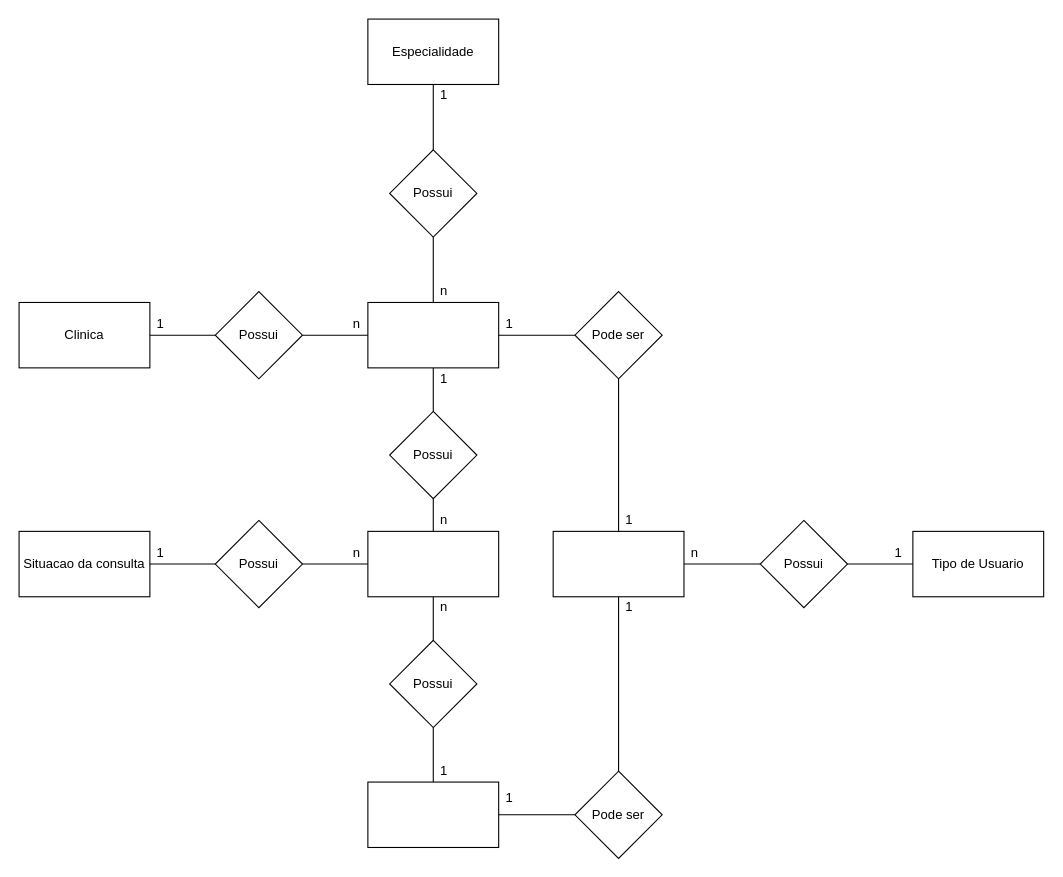
Image size: 1063x877. Some labels were removed from this diagram. Here are the shapes that lost their labels. From the top down, the centre of each, then its label:
the point at 433,334: Médico
the point at 433,563: Consulta
the point at 618,563: Usuario
the point at 433,814: Paciente
